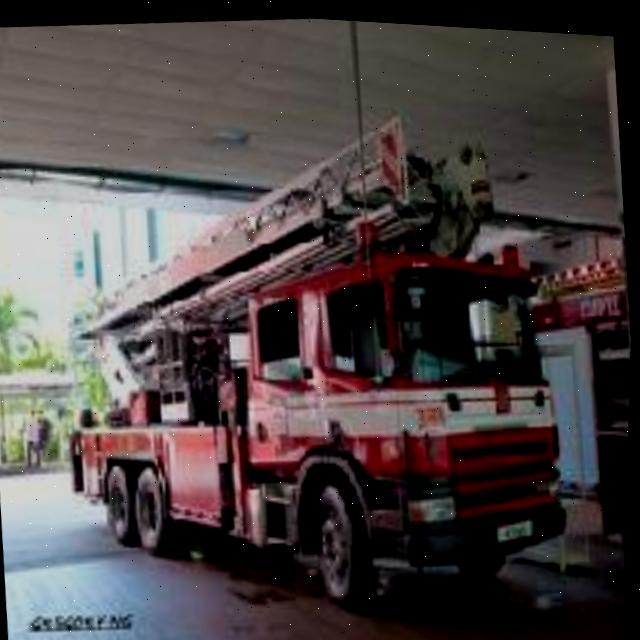emergency: (31, 151, 602, 640)
